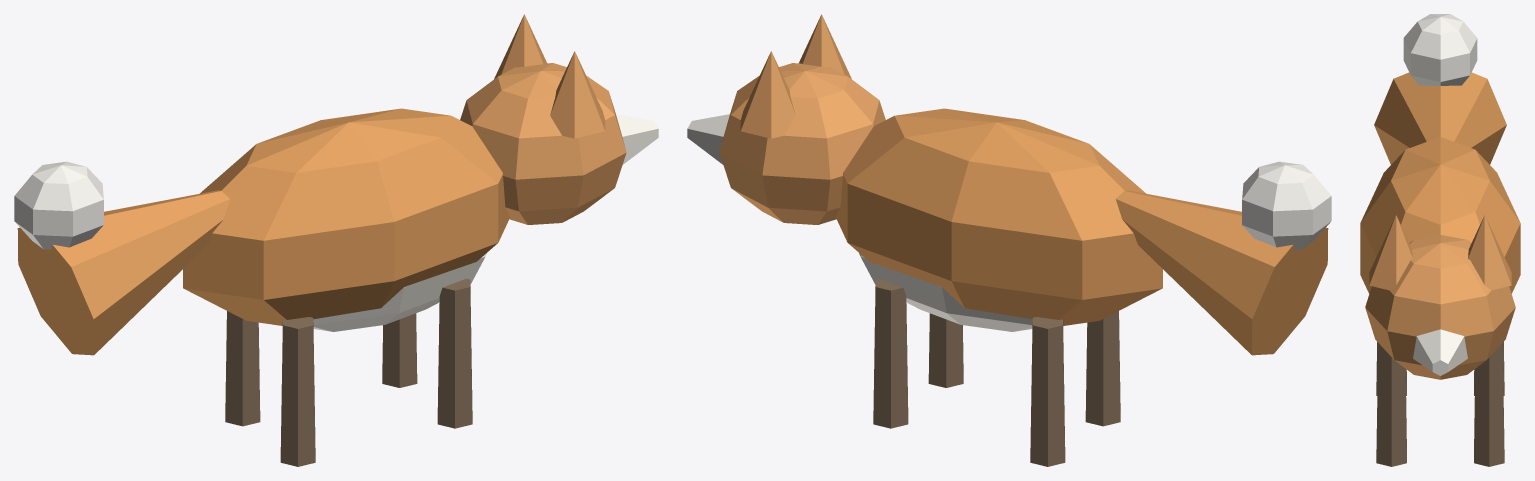
Rendered from fox.glb.
3 views of the same model, side by side, from view 1: azimuth 30°, elevation 25°; view 2: azimuth 150°, elevation 25°; view 3: azimuth 270°, elevation 25° (orthographic). The views are drawn at different scales.
Parts seen in each view (by area): view 1: fox-body, fox-head, fox-tail, fox-legs, fox-tailtip, fox-belly, fox-snout; view 2: fox-body, fox-head, fox-tail, fox-legs, fox-tailtip, fox-belly, fox-snout; view 3: fox-head, fox-body, fox-tail, fox-legs, fox-tailtip, fox-snout.
Part boxes in pixels (bbox=[...]): fox-body: bbox=[183, 108, 509, 325]; fox-head: bbox=[460, 14, 626, 224]; fox-tail: bbox=[17, 190, 229, 355]; fox-legs: bbox=[225, 278, 472, 466]; fox-tailtip: bbox=[14, 161, 103, 249]; fox-belly: bbox=[313, 253, 486, 331]; fox-snout: bbox=[616, 114, 658, 164]; fox-body: bbox=[836, 108, 1162, 325]; fox-head: bbox=[719, 14, 885, 224]; fox-tail: bbox=[1116, 190, 1328, 355]; fox-legs: bbox=[873, 278, 1120, 466]; fox-tailtip: bbox=[1242, 161, 1331, 249]; fox-belly: bbox=[859, 253, 1032, 331]; fox-snout: bbox=[687, 114, 729, 164]; fox-head: bbox=[1365, 215, 1515, 379]; fox-body: bbox=[1360, 137, 1520, 293]; fox-tail: bbox=[1374, 72, 1506, 164]; fox-legs: bbox=[1376, 342, 1504, 466]; fox-tailtip: bbox=[1403, 14, 1477, 85]; fox-snout: bbox=[1413, 329, 1467, 375].
Size of the model in its own units: 1.45 by 0.74 by 0.3614.
